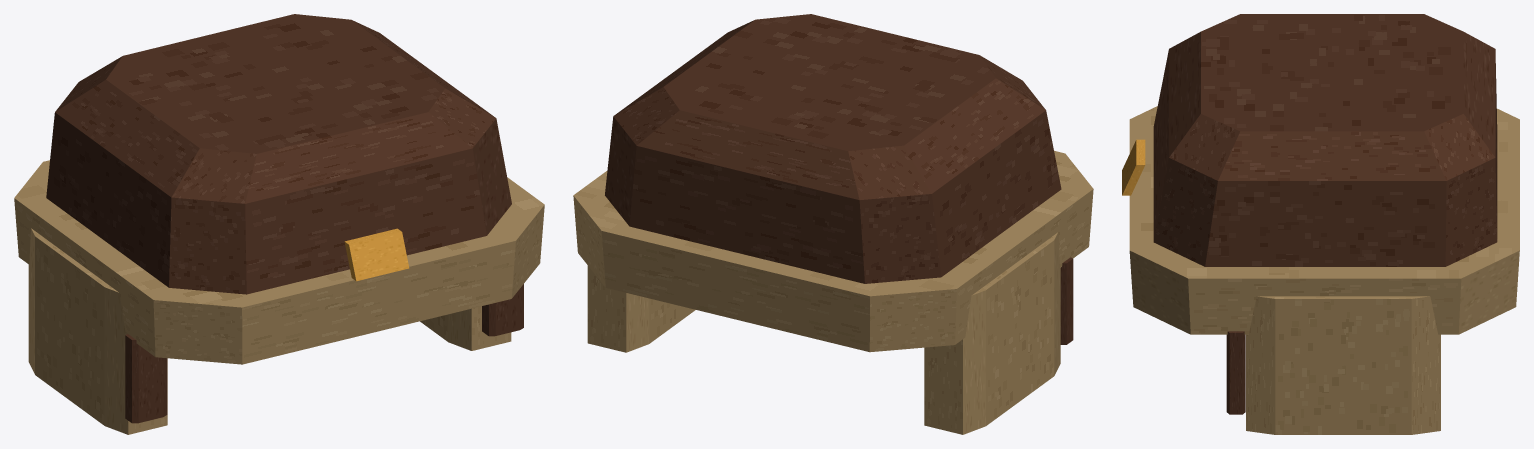
Rendered from hat4.glb.
The picture shows the model from 3 angles, left to right: view 1: azimuth 30°, elevation 25°; view 2: azimuth 150°, elevation 25°; view 3: azimuth 270°, elevation 25°; orthographic projection. The views are drawn at different scales.
Parts seen in each view (by area): view 1: Iskra_Hat_fur; view 2: Iskra_Hat_fur; view 3: Iskra_Hat_fur.
Part boxes in pixels (x1,y1,x2,y2): Iskra_Hat_fur: (14,14,544,434); Iskra_Hat_fur: (573,14,1093,434); Iskra_Hat_fur: (1122,14,1519,434).
Size of the model in its own units: 0.603 by 0.392 by 0.53.
1 material, 1 textured.
